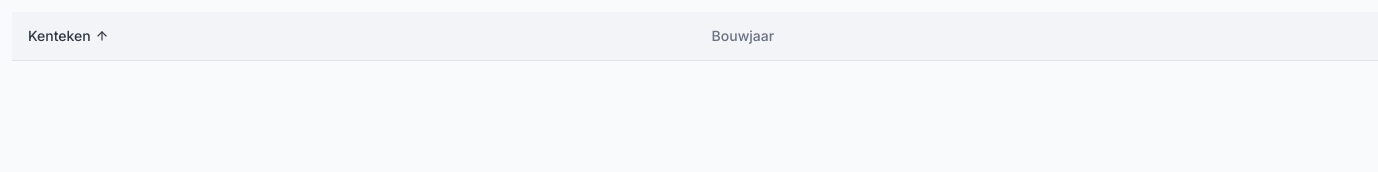
useTableControls › zet een klik op een kolomkop in de URL en draait bij de tweede klik om
Later steps or results of the test are not shown.
Click the button "Bouwjaar".
click(752, 36)  # box [704,22,800,50]
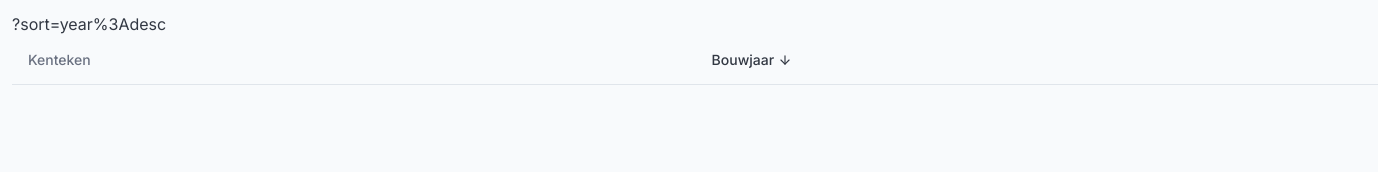
Expected: the text with test id "url" shows "sort=year%3Adesc", [12,14,166,34]
